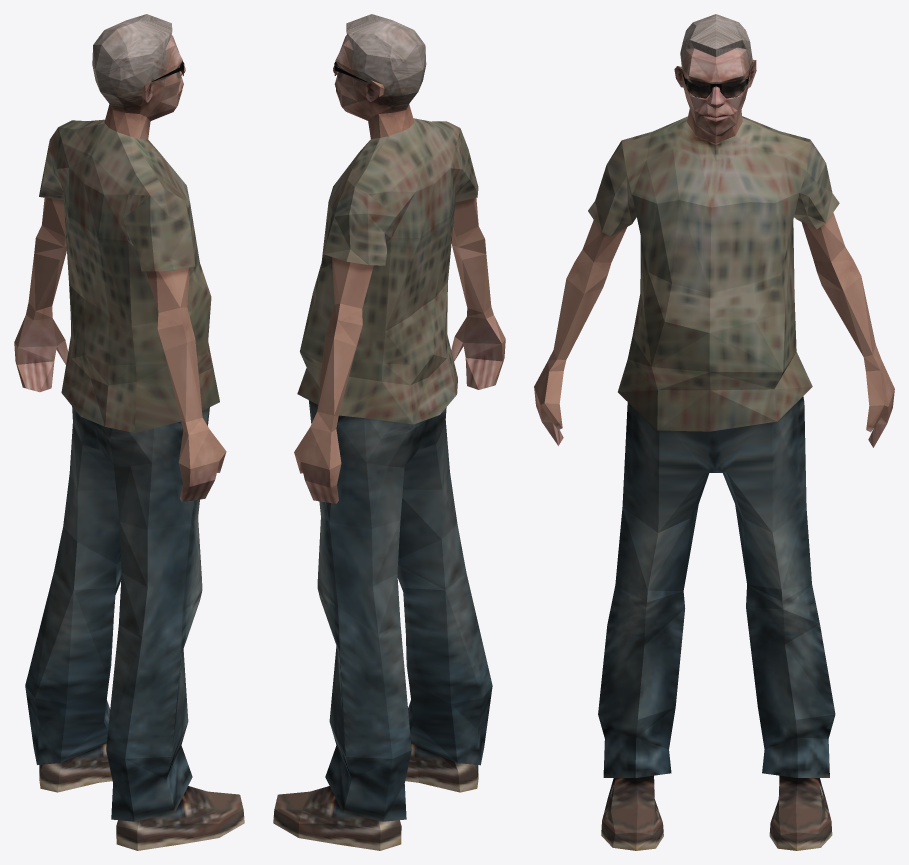
The model's file is swmocd.obj.
3 renders of one model, left to right at view 1: azimuth 30°, elevation 25°; view 2: azimuth 150°, elevation 25°; view 3: azimuth 270°, elevation 25°, orthographic. The views are drawn at different scales.
Parts seen in each view (by area): view 1: _Pelvis; view 2: _Pelvis; view 3: _Pelvis.
Part boxes in pixels (x1,y1,x2,y2): _Pelvis: [14, 14, 244, 850]; _Pelvis: [273, 14, 505, 850]; _Pelvis: [534, 14, 894, 850].
Bounding box in the file's own units: 0.3034 × 1.69 × 0.6912.
Materials: 1 (1 with a texture image).
